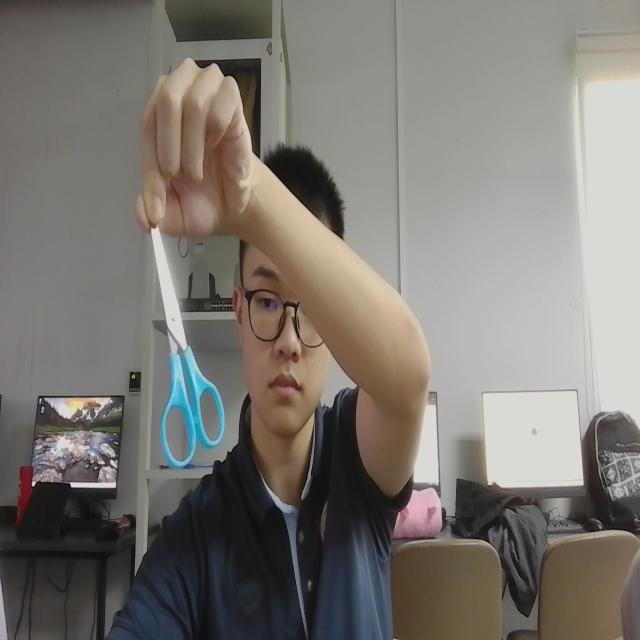scissors: (137, 191, 233, 477)
